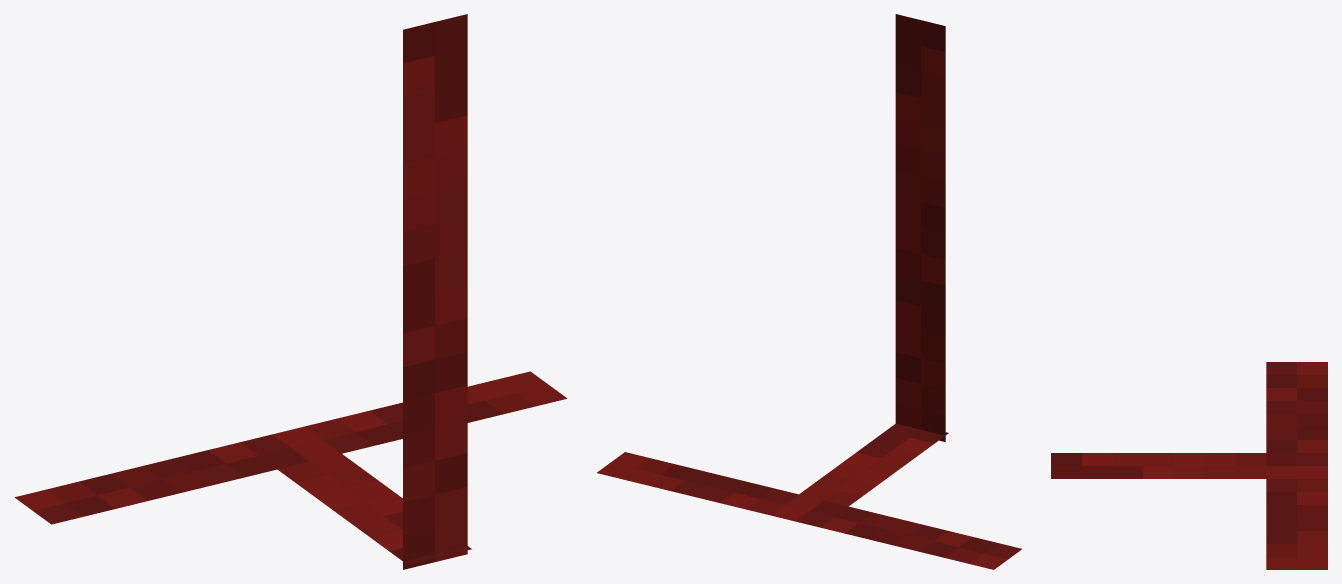
Rendered from dust_1120.gltf.
The picture shows the model from 3 angles, left to right: view 1: azimuth 30°, elevation 25°; view 2: azimuth 150°, elevation 25°; view 3: azimuth 270°, elevation 25°; orthographic projection. The views are drawn at different scales.
Visible parts, largest first — view 1: dust_1120; view 2: dust_1120; view 3: dust_1120.
Part boxes in pixels (x1,y1,x2,y2): dust_1120: (14,14,567,569); dust_1120: (597,14,1021,569); dust_1120: (1051,362,1327,569).
Bounding box in the file's own units: 1 × 1 × 0.5625.
Materials: 1 (1 with a texture image).
